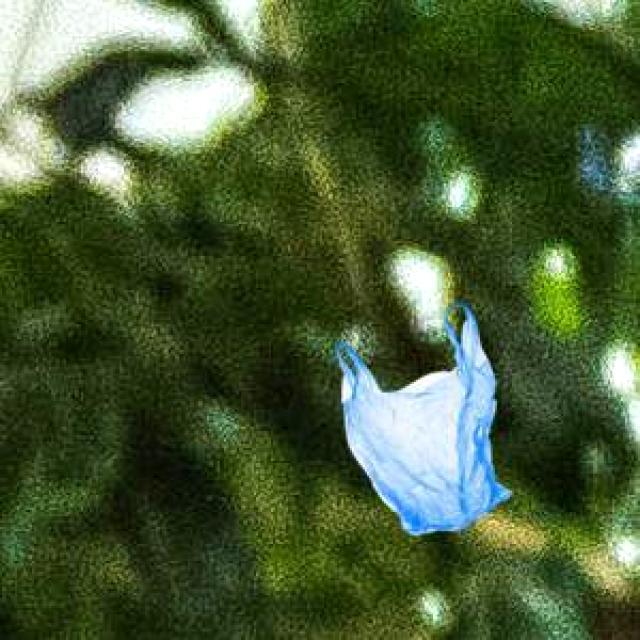Plastic_Bag: (336, 304, 509, 532)
